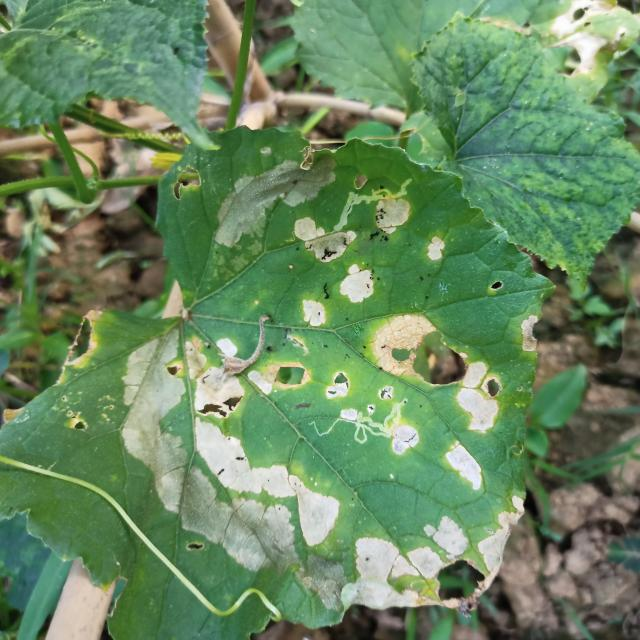disease_cucumber: (116, 326, 345, 594), (348, 310, 530, 612), (215, 159, 453, 333)
